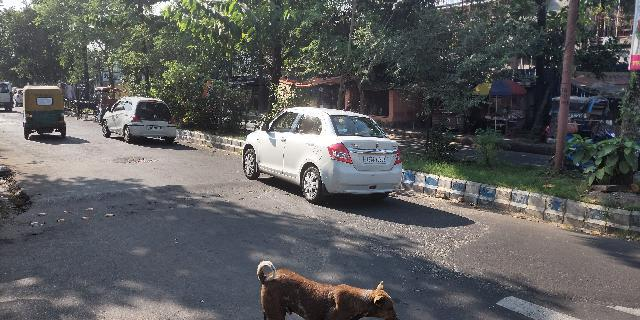Autorickshaw: (23, 84, 71, 147)
Car: (242, 103, 412, 202), (102, 94, 182, 144)
